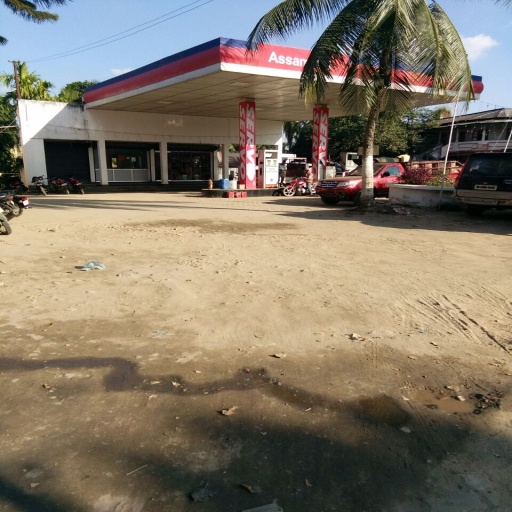roof: (83, 36, 482, 108)
